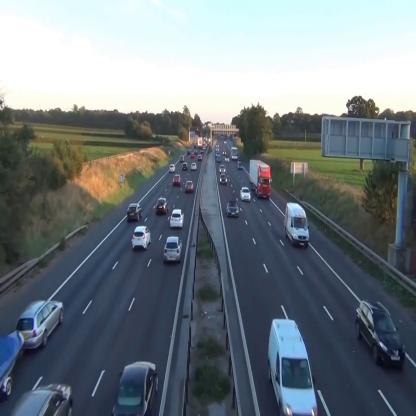car: (354, 299, 406, 368), (110, 359, 159, 416), (17, 300, 65, 348), (12, 384, 74, 416), (163, 236, 182, 263), (132, 226, 151, 251), (127, 203, 142, 221), (170, 209, 184, 228), (226, 201, 239, 218), (156, 198, 169, 214), (239, 187, 251, 201), (172, 174, 182, 185), (186, 180, 194, 192), (220, 172, 227, 184), (170, 163, 176, 173), (219, 164, 226, 172), (182, 162, 188, 171), (191, 162, 197, 170), (180, 155, 184, 162)
lorry: (267, 316, 317, 416), (284, 202, 310, 247), (250, 158, 272, 200)
